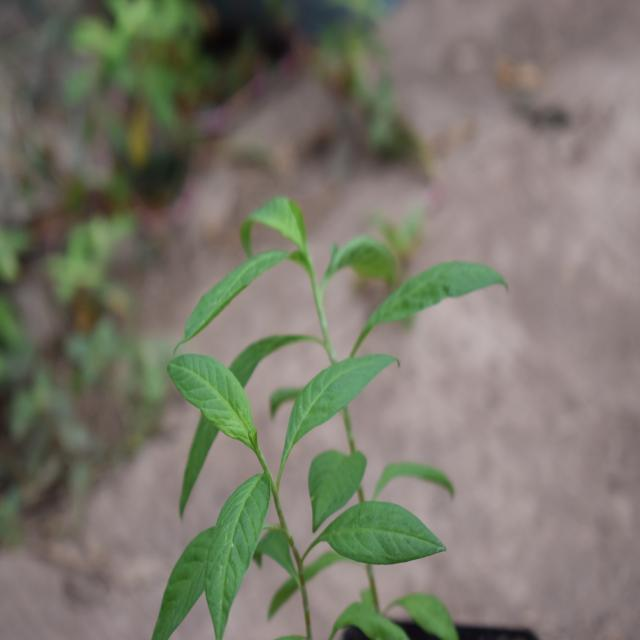white_smart_weed: (123, 350, 477, 624)
